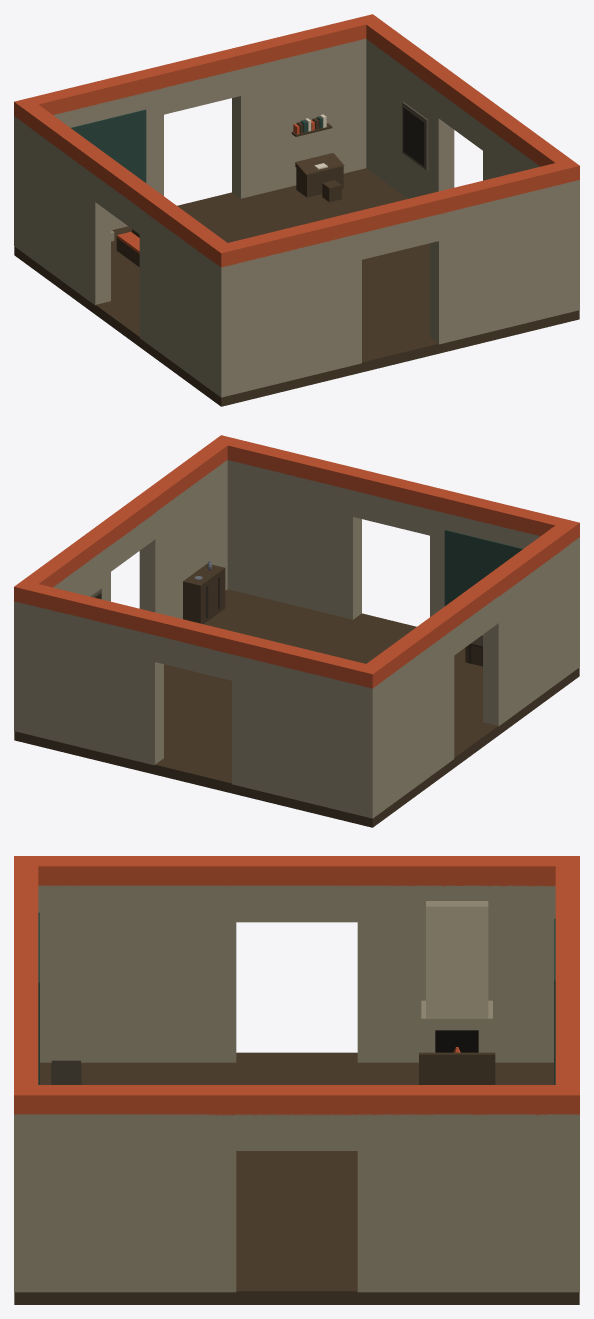
The model's file is LateTapestrySolar.fbx.
The picture shows the model from 3 angles, top to bottom: view 1: azimuth 30°, elevation 25°; view 2: azimuth 150°, elevation 25°; view 3: azimuth 270°, elevation 25°; orthographic projection. The views are drawn at different scales.
Parts seen in each view (by area): view 1: LateTapestrySolar; view 2: LateTapestrySolar; view 3: LateTapestrySolar.
Part boxes in pixels (x1=…): LateTapestrySolar: x1=14, y1=14, x2=579, y2=406; LateTapestrySolar: x1=14, y1=435, x2=579, y2=827; LateTapestrySolar: x1=14, y1=856, x2=579, y2=1304.
Size of the model in its own units: 1202 by 492 by 1202.
Materials: 9 (9 with a texture image).
